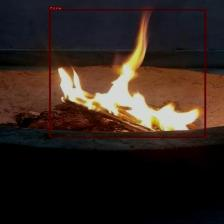fire: (49, 9, 206, 138)
